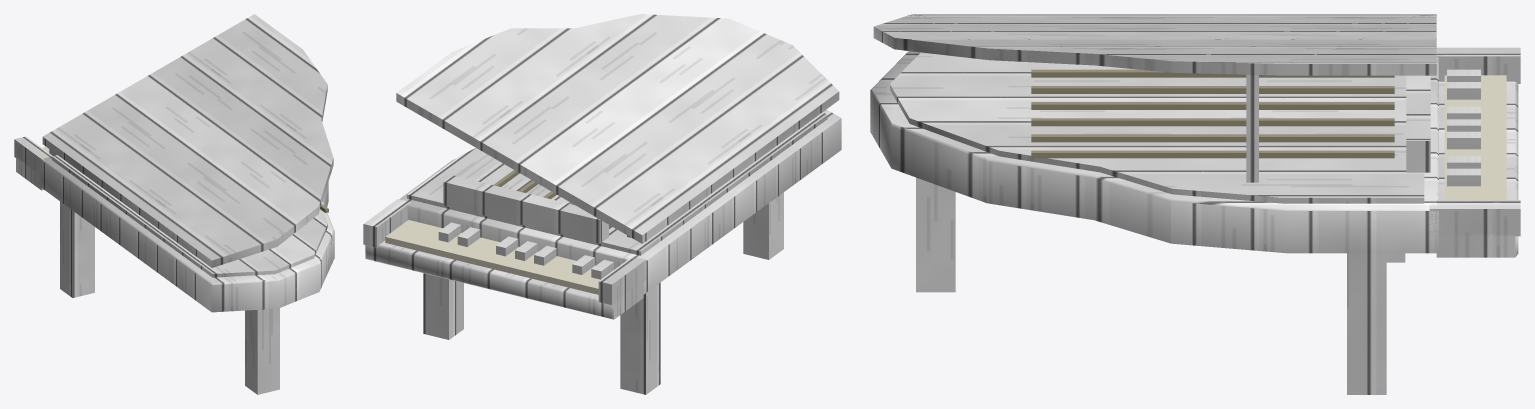
The model's file is harpsichord.obj.
The picture shows the model from 3 angles, left to right: view 1: azimuth 30°, elevation 25°; view 2: azimuth 150°, elevation 25°; view 3: azimuth 270°, elevation 25°; orthographic projection. The views are drawn at different scales.
Parts seen in each view (by area): view 1: source_component_024, source_component_000, source_component_001, source_component_011, source_component_009, source_component_021, source_component_012; view 2: source_component_024, source_component_000, source_component_001, source_component_012, source_component_023, source_component_013, source_component_009, source_component_010, source_component_011, source_component_021, source_component_022; view 3: source_component_001, source_component_000, source_component_024, source_component_010, source_component_013, source_component_011, source_component_012, source_component_022, source_component_006, source_component_007, source_component_008, source_component_004 (+8 smaller).
Part boxes in pixels (x1,y1,x2,y2): source_component_024: (42, 14, 333, 267); source_component_000: (40, 156, 334, 312); source_component_001: (52, 155, 327, 277); source_component_011: (245, 308, 279, 394); source_component_009: (60, 201, 94, 297); source_component_021: (14, 136, 52, 177); source_component_012: (16, 157, 43, 190); source_component_024: (396, 14, 839, 243); source_component_000: (399, 109, 841, 294); source_component_001: (407, 112, 827, 255); source_component_012: (365, 240, 643, 319); source_component_023: (443, 175, 608, 243); source_component_013: (385, 220, 600, 294); source_component_009: (620, 282, 660, 394); source_component_010: (423, 273, 463, 339); source_component_011: (743, 192, 783, 259); source_component_021: (598, 256, 646, 304); source_component_022: (363, 199, 410, 247); source_component_001: (890, 52, 1424, 203); source_component_000: (870, 51, 1438, 253); source_component_024: (873, 14, 1436, 75); source_component_010: (1347, 253, 1386, 394); source_component_013: (1444, 75, 1506, 199); source_component_011: (916, 177, 955, 292); source_component_012: (1436, 81, 1518, 257); source_component_022: (1429, 200, 1520, 236); source_component_006: (1031, 118, 1394, 126); source_component_007: (1031, 134, 1394, 142); source_component_008: (1031, 150, 1394, 158); source_component_004: (1031, 86, 1394, 93).
Bounding box in the file's own units: 1.64 × 1.59 × 2.79.
